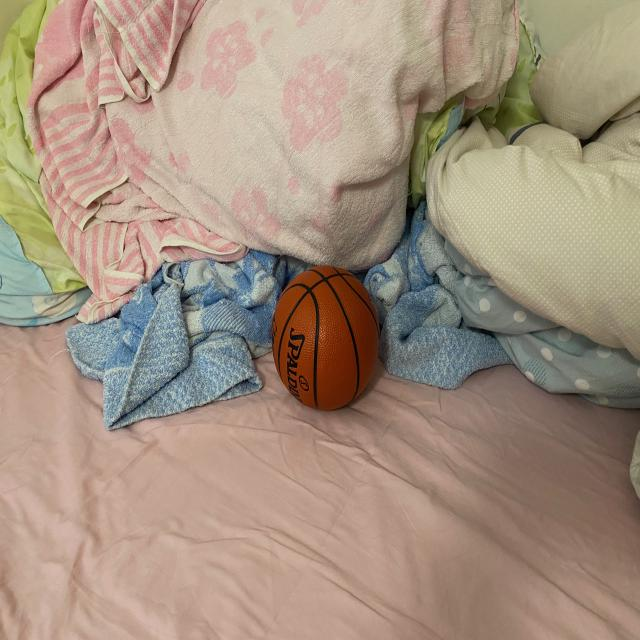Ball: (259, 248, 396, 426)
